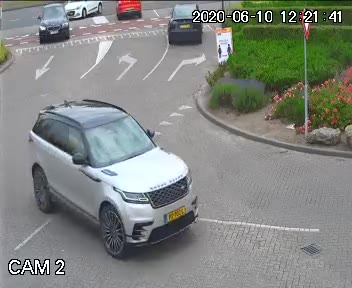car: (19, 96, 199, 252), (162, 5, 205, 52), (37, 2, 69, 47), (111, 0, 144, 23), (61, 0, 103, 17)
